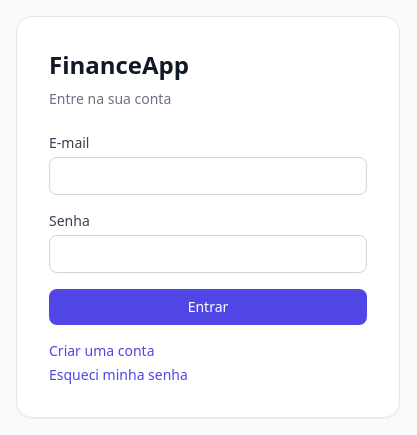
Test: Login page › shows reset form when "Esqueci minha senha" is clicked
Click the button "Esqueci minha senha" at {"x": 118, "y": 374}, box [49,365,367,385]
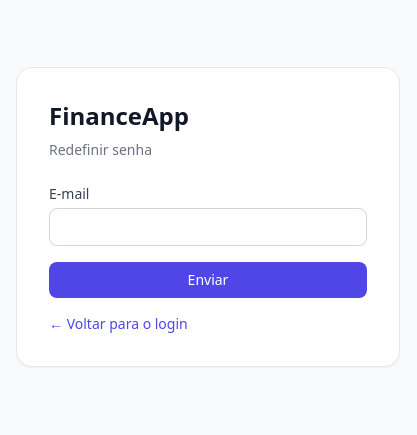
Check: the button "Enviar" is shown, box [49,262,367,298]
